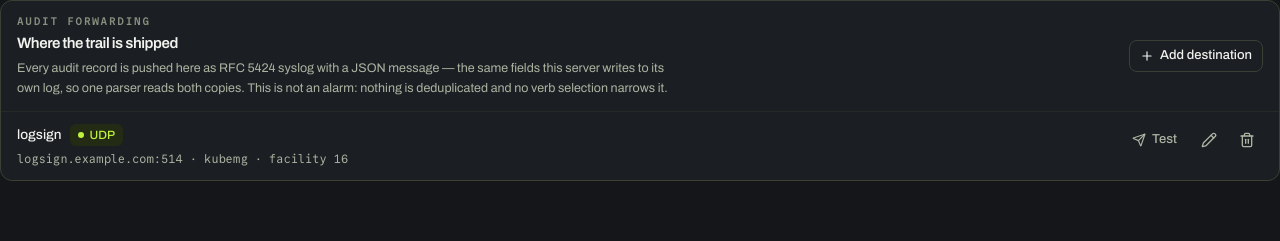
Test: AuditForwardingPanel › states what a udp test cannot prove
Click the button "Test".
click(1155, 140)  # box [1122, 124, 1187, 156]
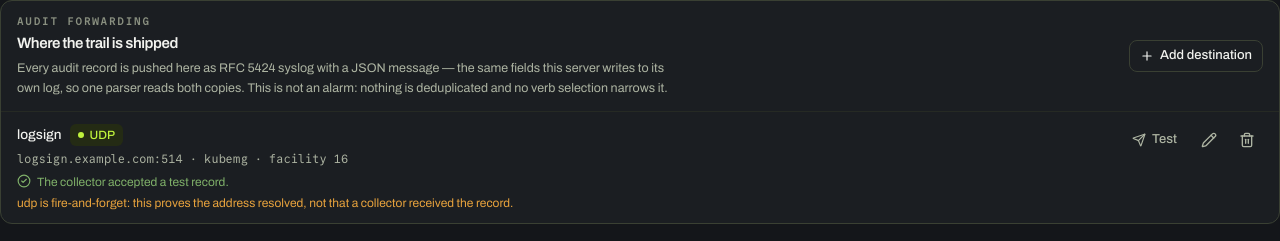
Check: the text "fire-and-forget" is shown, box [17, 196, 514, 210]
